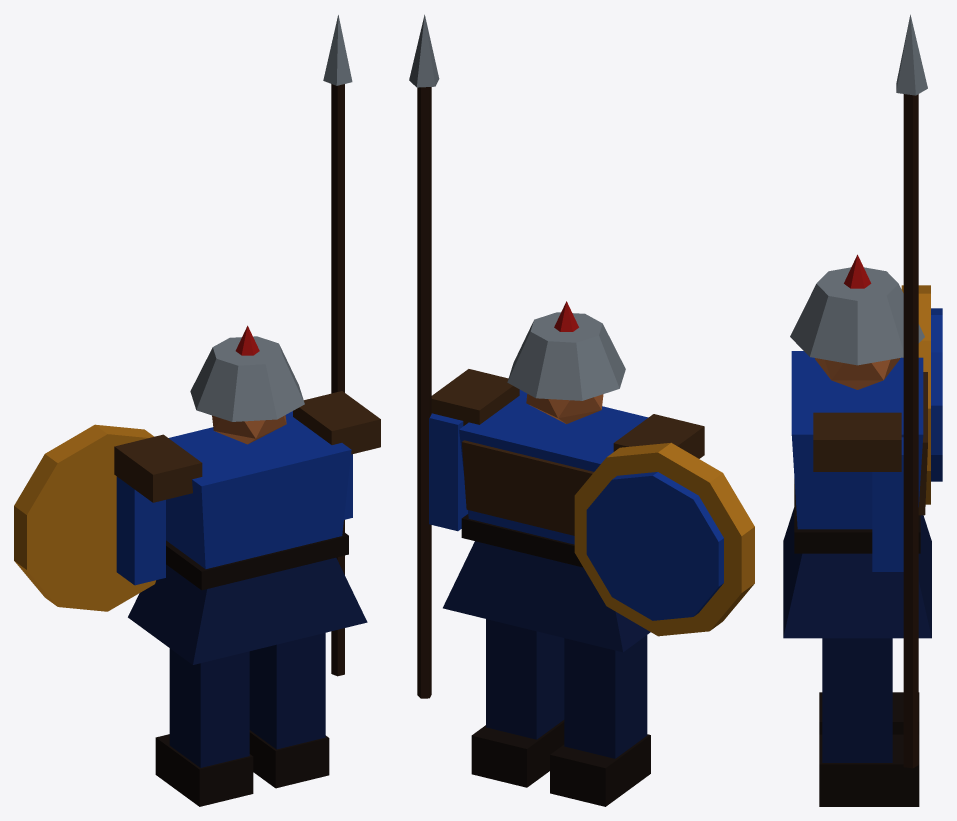
Rendered from unit_infantry.glb.
3 views of the same model, side by side, from view 1: azimuth 30°, elevation 25°; view 2: azimuth 150°, elevation 25°; view 3: azimuth 270°, elevation 25° (orthographic). The views are drawn at different scales.
Parts seen in each view (by area): view 1: UNIT_infantry_ally; view 2: UNIT_infantry_ally; view 3: UNIT_infantry_ally.
Boxes of the visible parts, left/top/right/bottom form: UNIT_infantry_ally: left=14, top=15, right=380, bottom=806; UNIT_infantry_ally: left=409, top=14, right=754, bottom=806; UNIT_infantry_ally: left=783, top=14, right=942, bottom=806.
Size of the model in its own units: 0.7342 by 1.54 by 0.2715.
